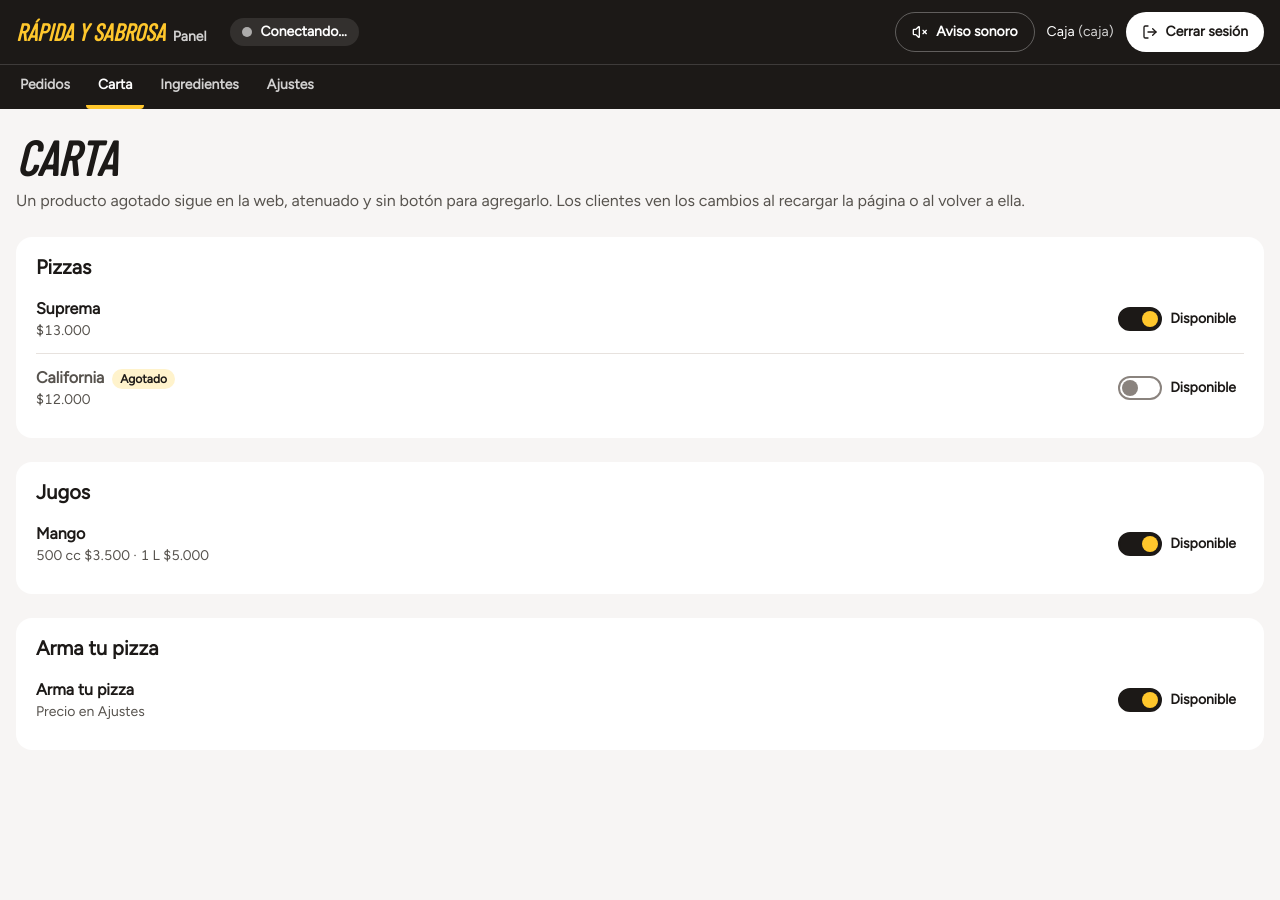
Test: /carta › si el cambio falla, lo avisa en la fila y el interruptor queda como estaba
Check: the heading "Carta" is shown, box [16,128,116,186]
Step 1. Click the switch named "Suprema disponible" → (1181, 319), box [1118,299,1244,339]
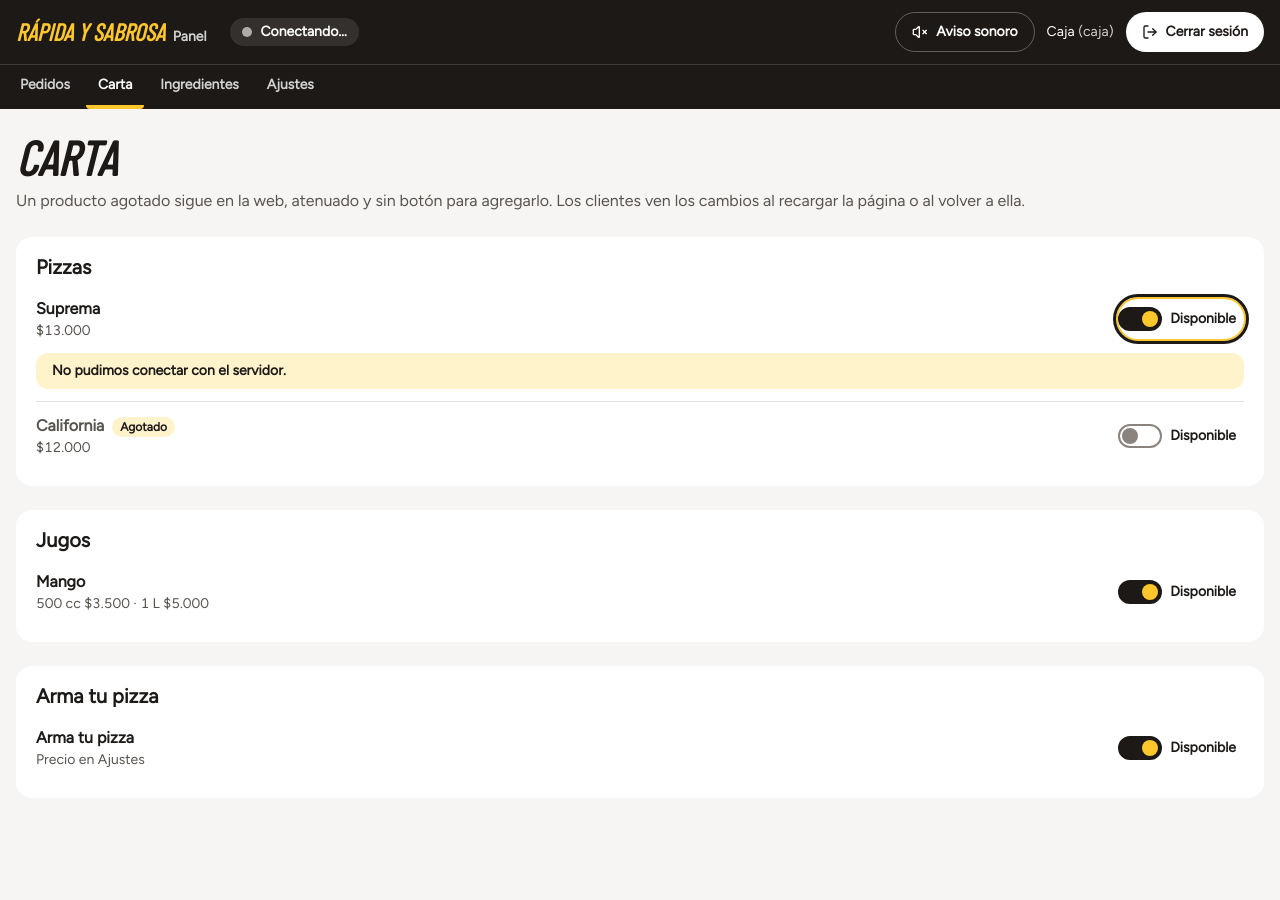
Check: the text "No pudimos conectar con el servidor." is shown, box [36,353,1244,389]
